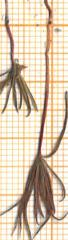flower: (0, 152, 68, 240), (0, 56, 40, 124)
stem: (36, 25, 53, 155)
